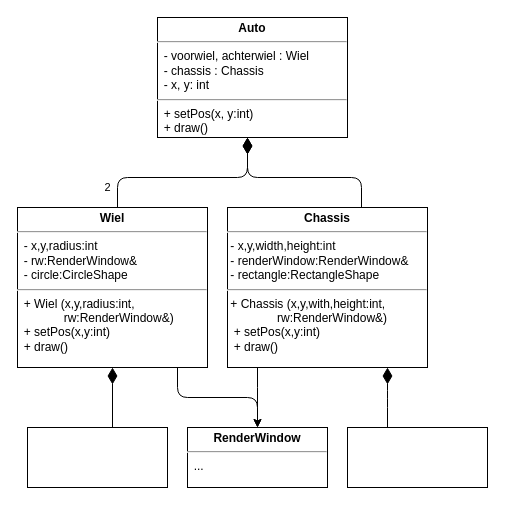
This 505x505 diagram has some shape labels left out. Here are the shapes that lost their labels. From the top down, the centre of each, then its label:
At (x=97, y=457): "CircleShape ...".
At (x=417, y=457): "RectangleShape ...".
